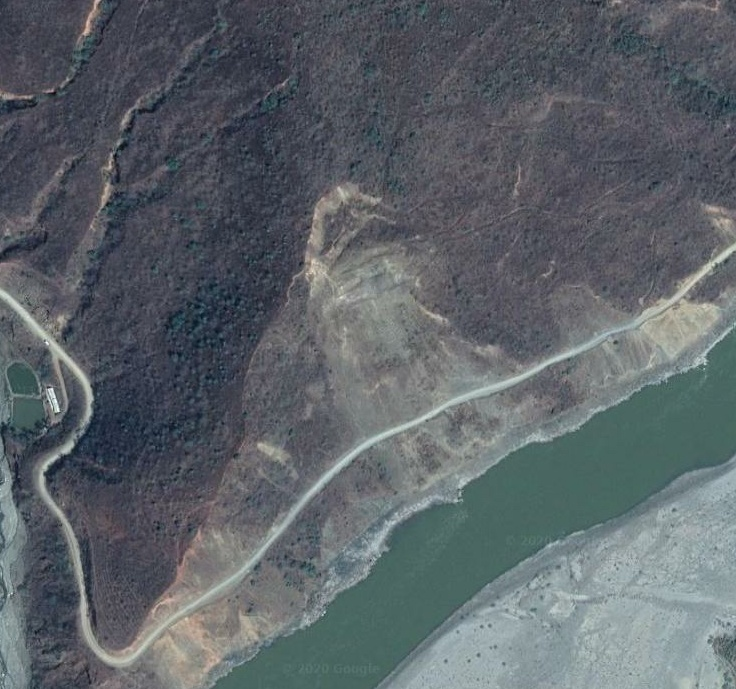slope: (288, 184, 524, 442), (551, 279, 636, 349), (648, 301, 725, 360), (698, 201, 735, 256)
